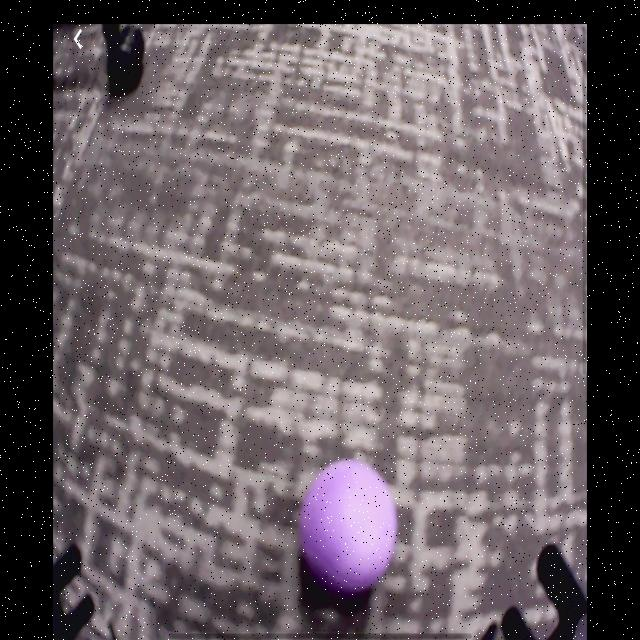ball: (304, 460, 397, 594)
